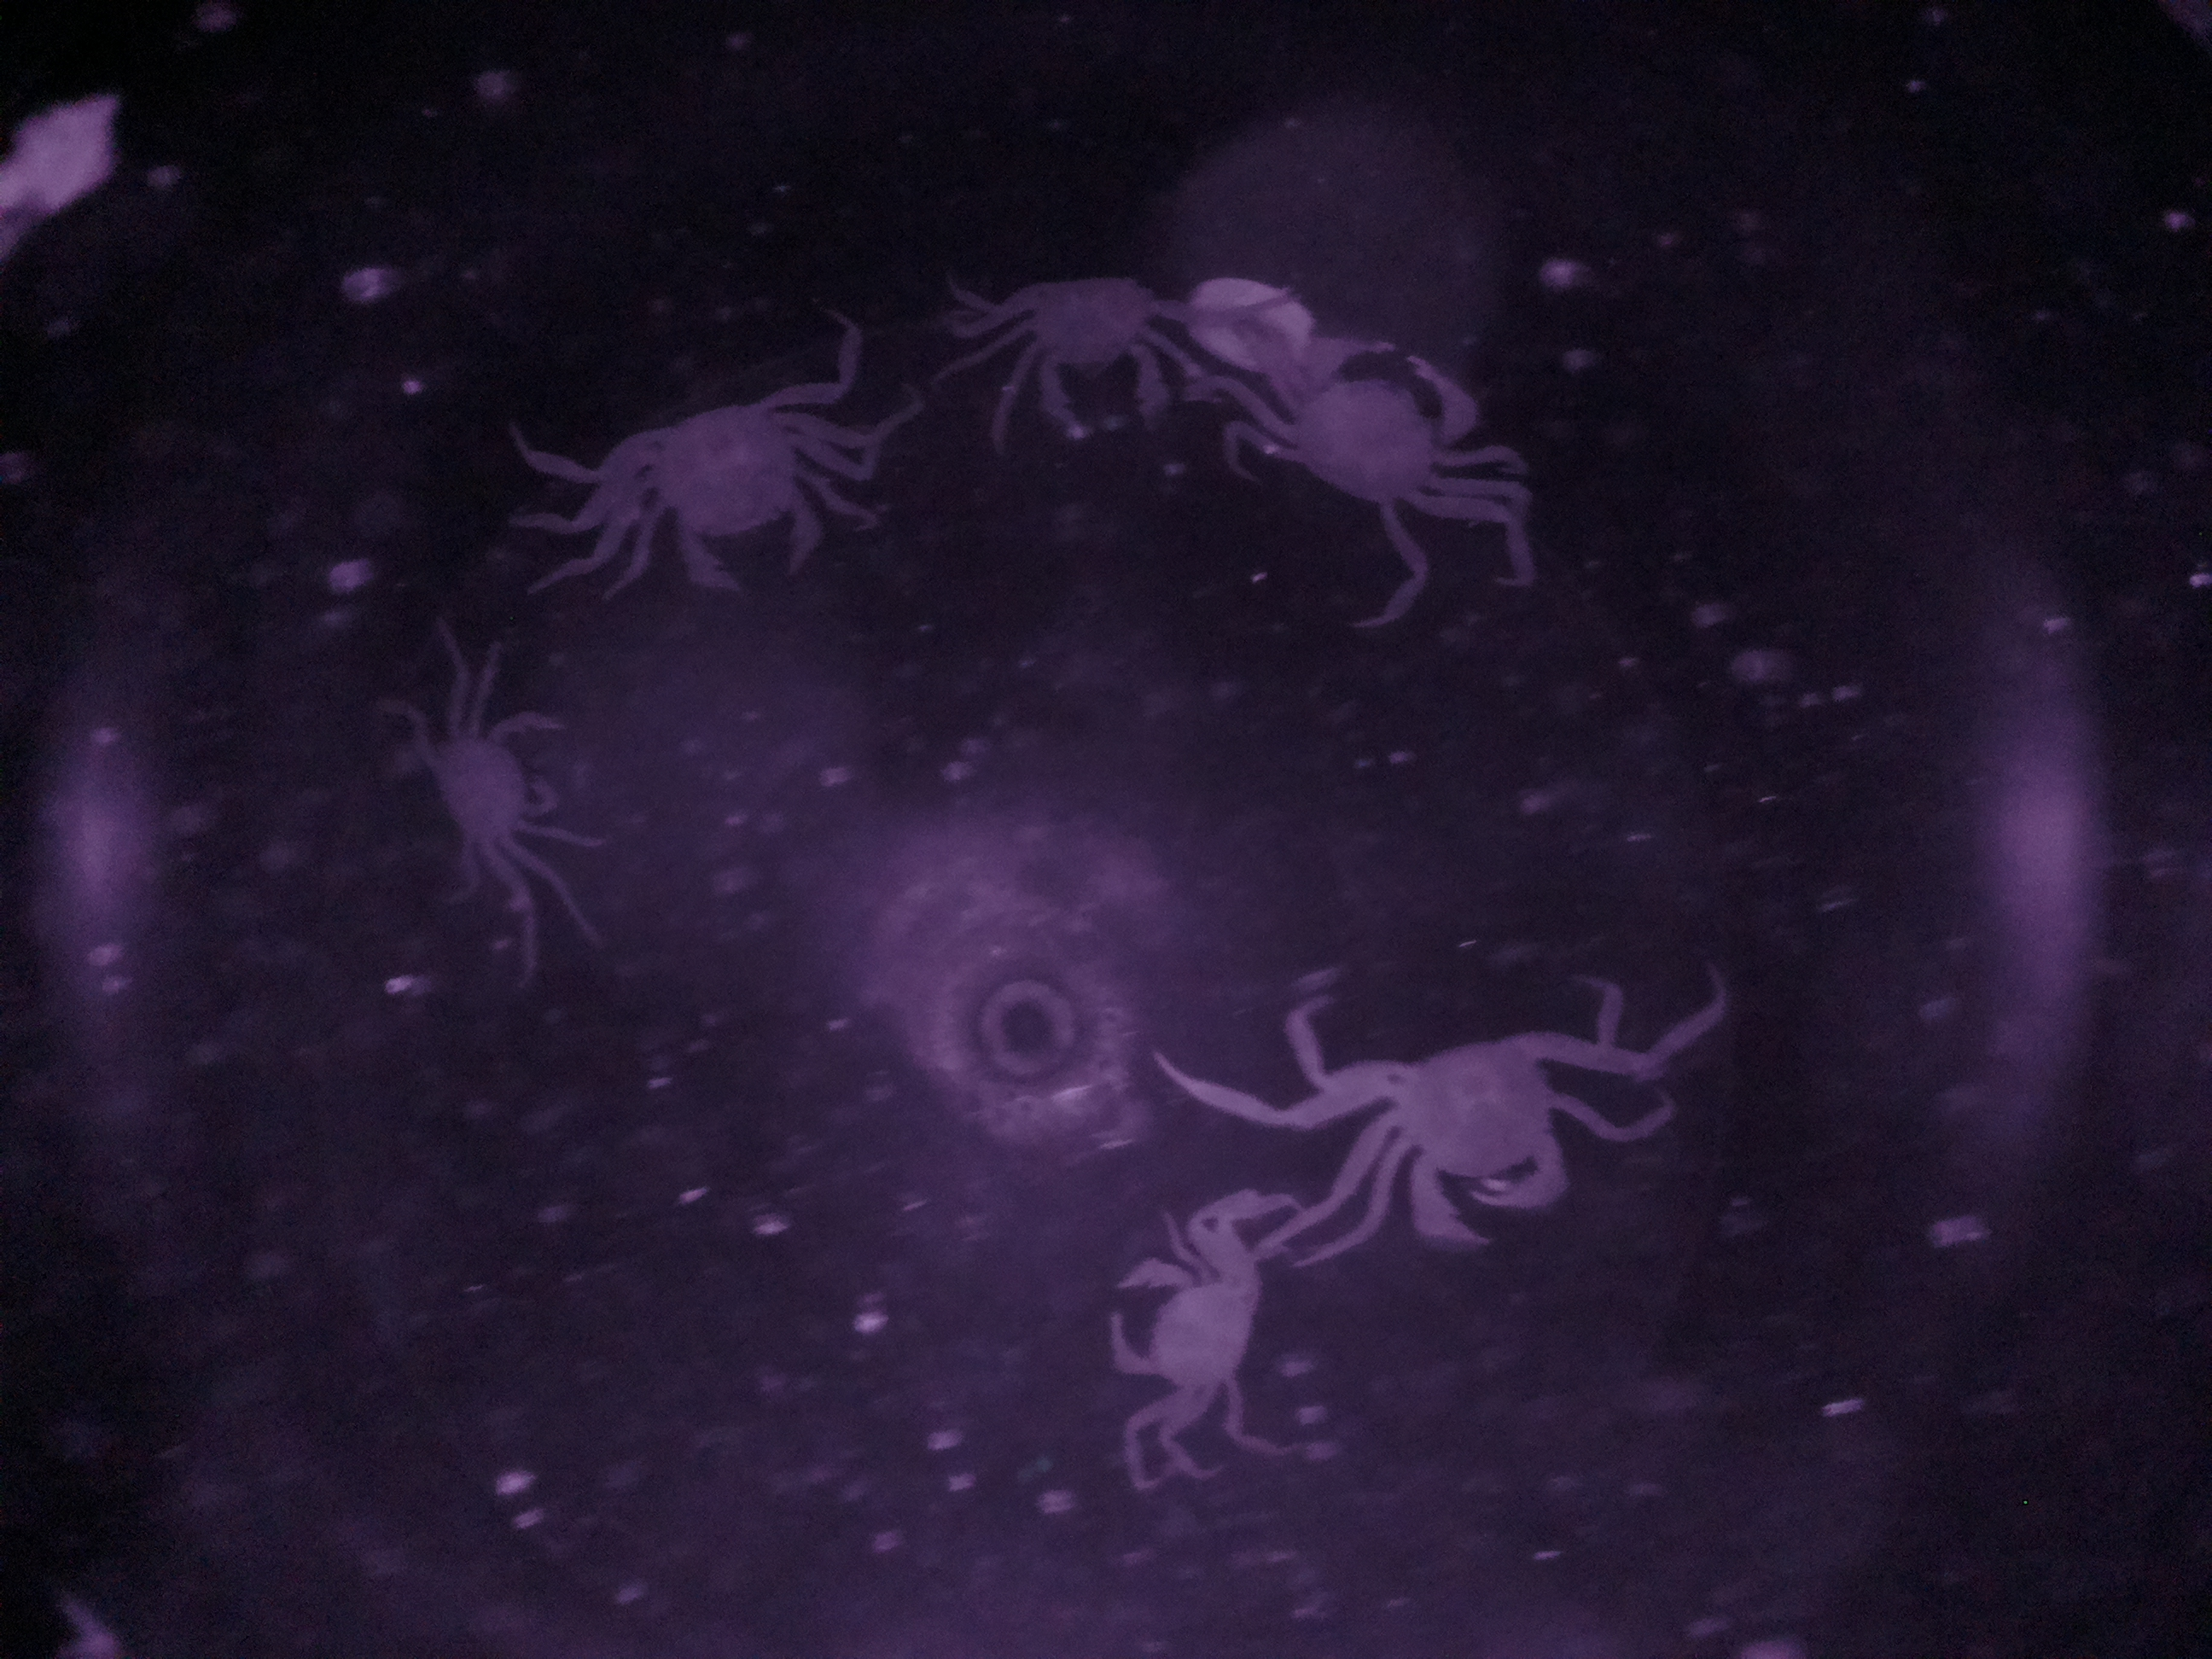Crab: (1327, 1009, 1646, 1262), (606, 369, 864, 631), (1254, 291, 1500, 554), (1062, 1206, 1287, 1436), (968, 244, 1191, 458), (415, 683, 596, 887)
